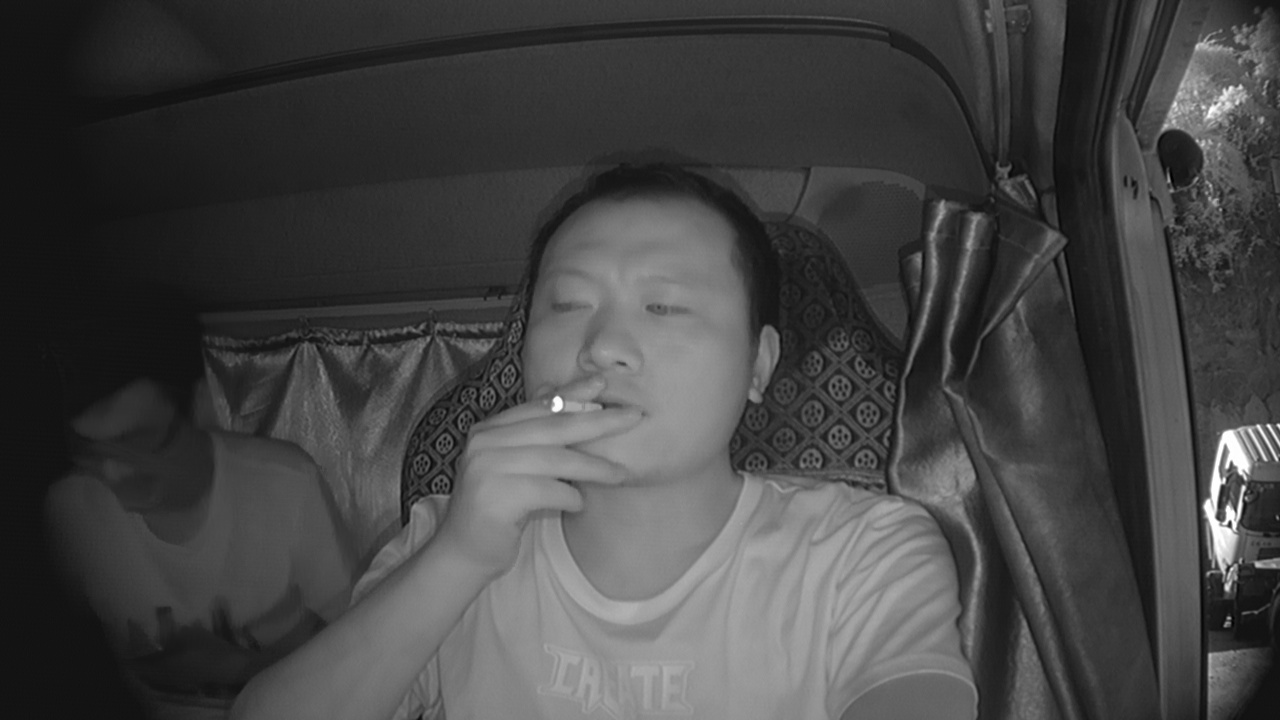hand: (473, 368, 637, 525)
